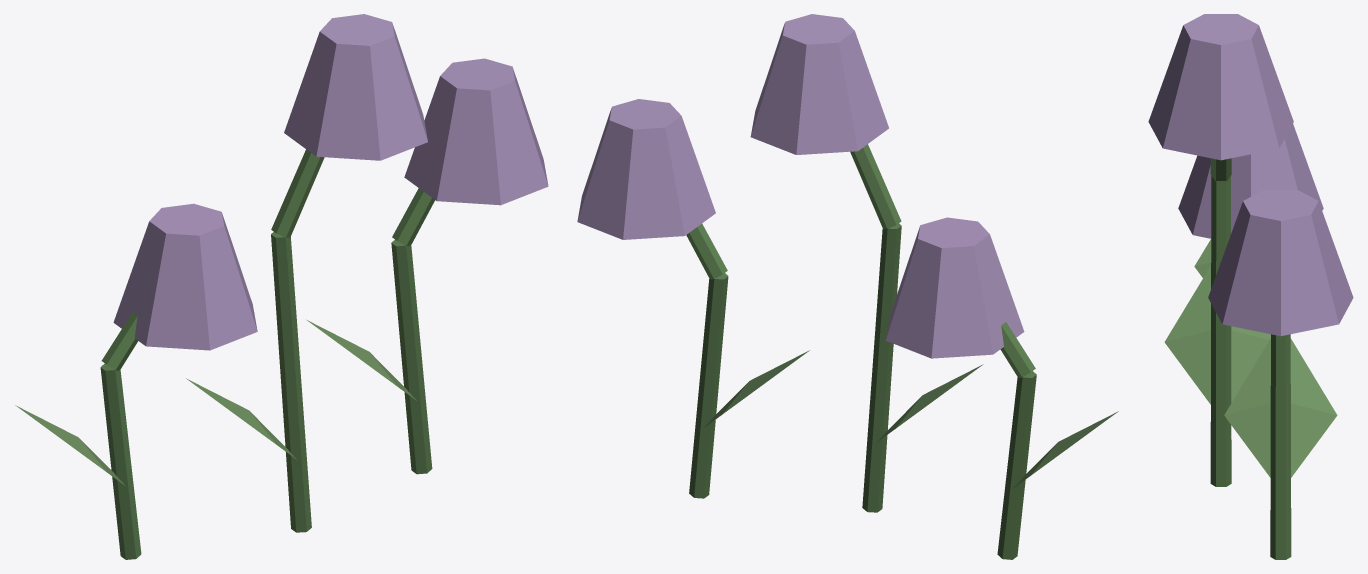
File: map-exclusive-v3__meadow_02.glb
3 views of the same model, side by side, from view 1: azimuth 30°, elevation 25°; view 2: azimuth 150°, elevation 25°; view 3: azimuth 270°, elevation 25° (orthographic). The views are drawn at different scales.
Parts seen in each view (by area): view 1: meadow_02; view 2: meadow_02; view 3: meadow_02.
Boxes of the visible parts, bbox=[...] form: meadow_02: bbox=[15, 14, 548, 559]; meadow_02: bbox=[577, 14, 1118, 559]; meadow_02: bbox=[1148, 14, 1353, 559].
Size of the model in its own units: 2.1 by 1.79 by 0.6874.
